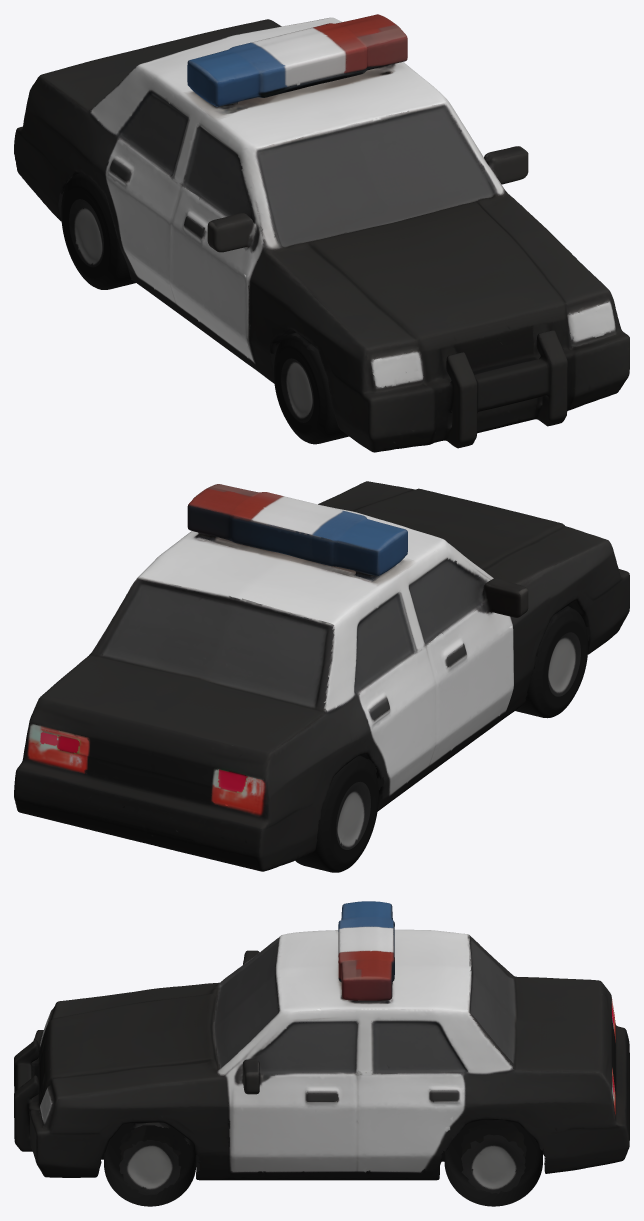
The model's file is Policecar.glb.
3 renders of one model, top to bottom at view 1: azimuth 30°, elevation 25°; view 2: azimuth 150°, elevation 25°; view 3: azimuth 270°, elevation 25°, orthographic. The views are drawn at different scales.
Parts seen in each view (by area): view 1: world, Wheel_PR, Wheel_NR; view 2: world, Wheel_PR, Wheel_NR; view 3: world, Wheel_PL, Wheel_NL.
Boxes of the visible parts, x1,y1,x2,y2 form: world: (14,14,629,452); Wheel_PR: (61,173,135,289); Wheel_NR: (274,333,348,444); world: (14,481,629,871); Wheel_PR: (295,755,378,872); Wheel_NR: (515,609,587,718); world: (14,901,629,1180); Wheel_PL: (444,1119,542,1206); Wheel_NL: (104,1123,196,1206).
Size of the model in its own units: 0.48 by 0.3903 by 1.
1 material, 1 textured.
